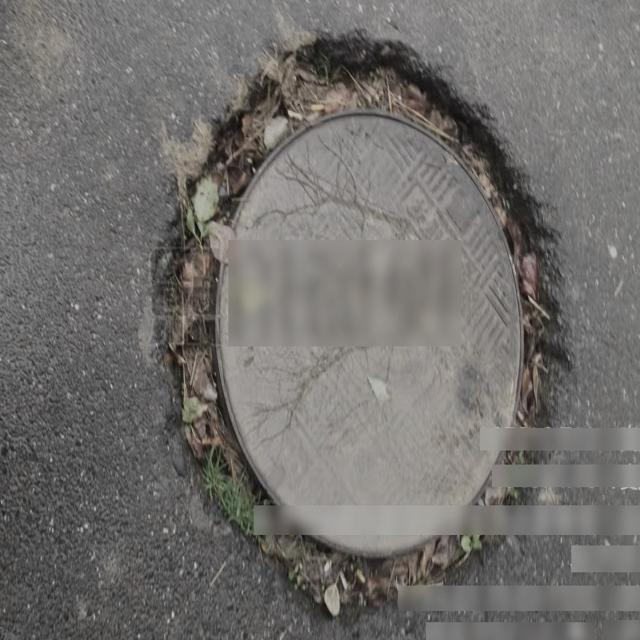circle: (152, 38, 574, 609)
